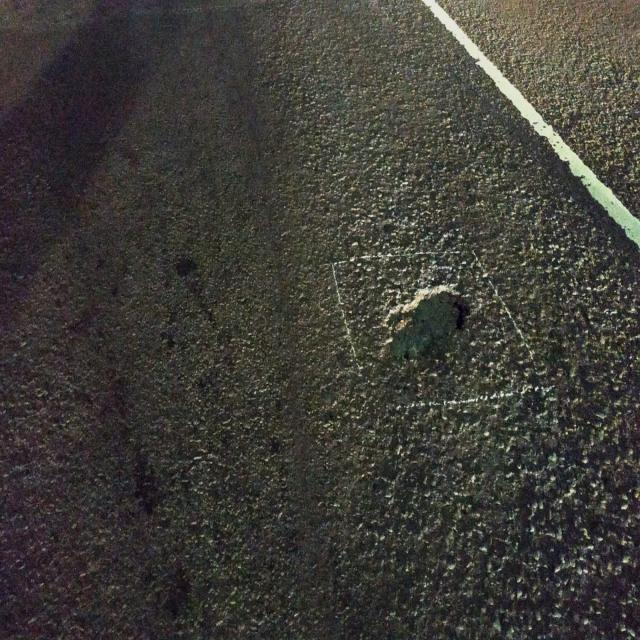Buraco: (376, 275, 492, 370)
